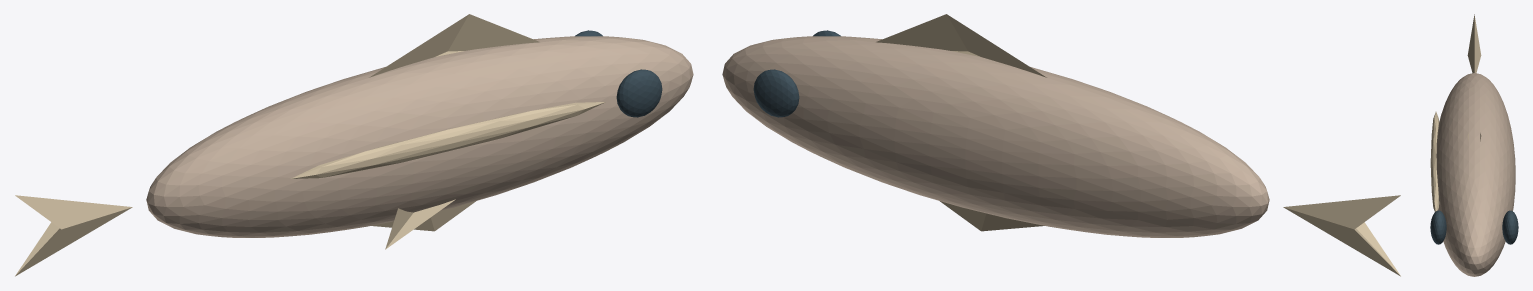
The model's file is Ikan_Biji_Nangka.glb.
3 renders of one model, left to right at view 1: azimuth 30°, elevation 25°; view 2: azimuth 150°, elevation 25°; view 3: azimuth 270°, elevation 25°, orthographic. The views are drawn at different scales.
Parts seen in each view (by area): view 1: Part_00, Part_07, Part_01, Part_02, Part_05, Part_04, Part_03; view 2: Part_00, Part_01, Part_02, Part_06, Part_03; view 3: Part_00, Part_07, Part_01, Part_05, Part_06.
Part boxes in pixels (box(x1,y1,x2,y2)): Part_00: box(146, 36, 693, 237); Part_07: box(291, 102, 605, 178); Part_01: box(15, 195, 132, 276); Part_02: box(369, 14, 539, 77); Part_05: box(616, 69, 662, 117); Part_04: box(385, 199, 455, 249); Part_03: box(371, 201, 475, 231); Part_00: box(722, 36, 1269, 237); Part_01: box(1283, 195, 1400, 276); Part_02: box(876, 14, 1046, 77); Part_06: box(753, 69, 799, 117); Part_03: box(940, 201, 1044, 231); Part_00: box(1436, 73, 1515, 276); Part_07: box(1430, 111, 1439, 211); Part_01: box(1467, 14, 1481, 73); Part_05: box(1430, 210, 1446, 244); Part_06: box(1502, 210, 1518, 244).
Size of the model in its own units: 1.16 by 0.3432 by 0.1947.
